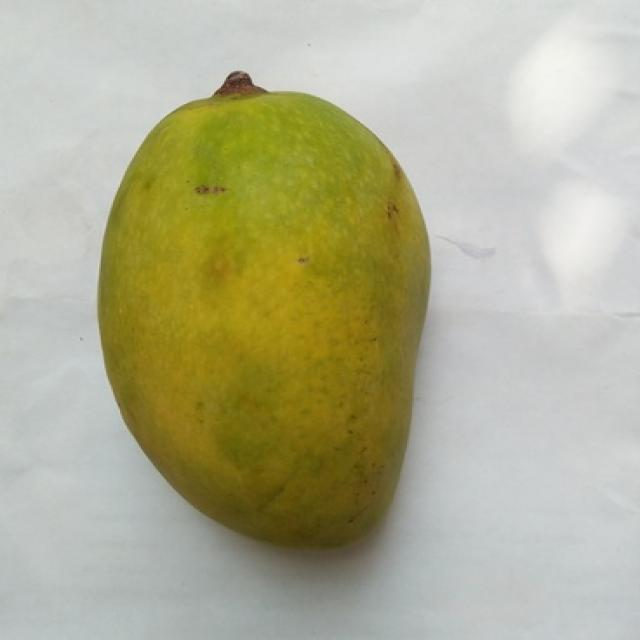Mango: (97, 73, 430, 547)
